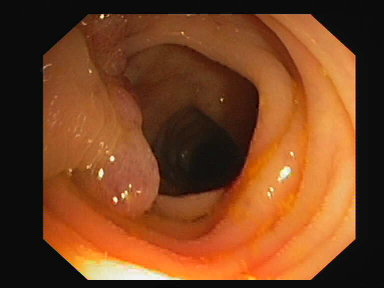polyp: (83, 85, 161, 219)
